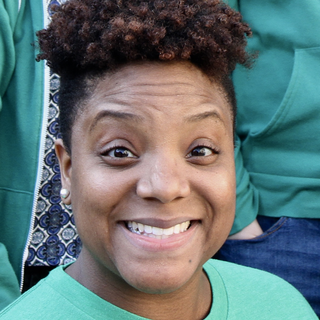eye: (95, 140, 142, 167), (180, 140, 222, 165)
